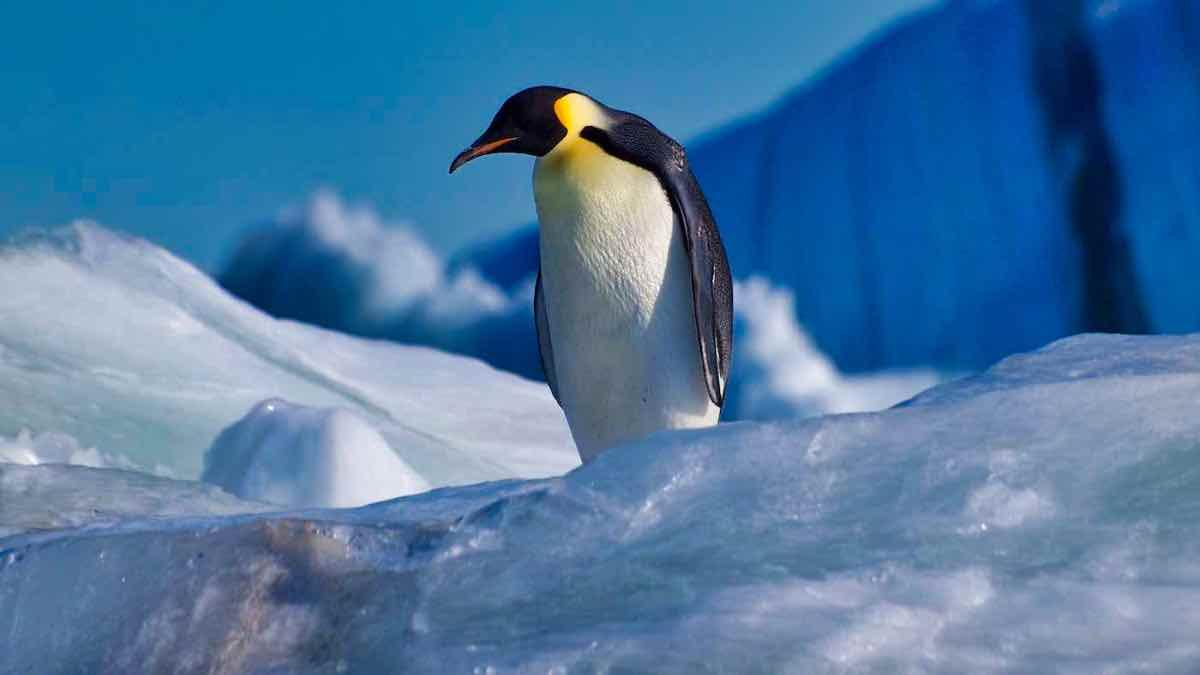emporer: (433, 66, 756, 475)
